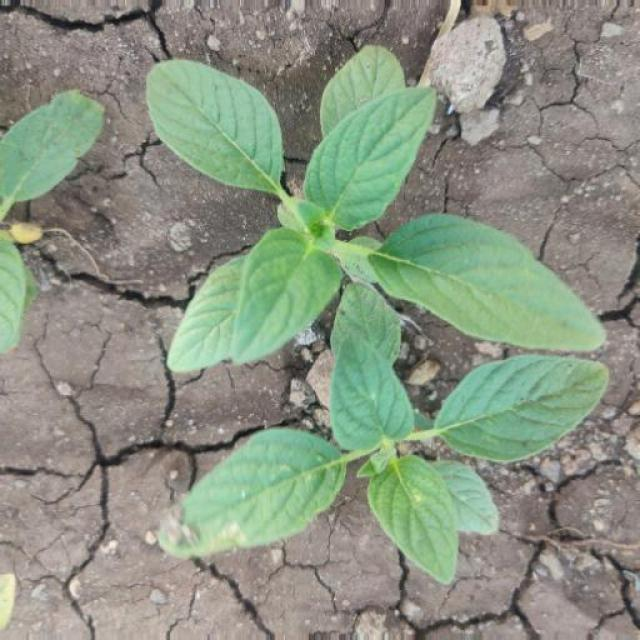crop: (114, 42, 618, 378), (143, 346, 606, 584)
